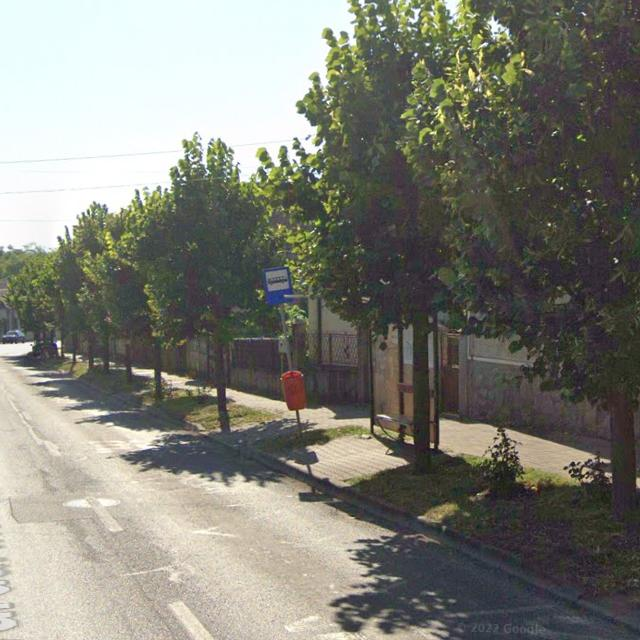info_bus_station: (263, 266, 293, 304)
